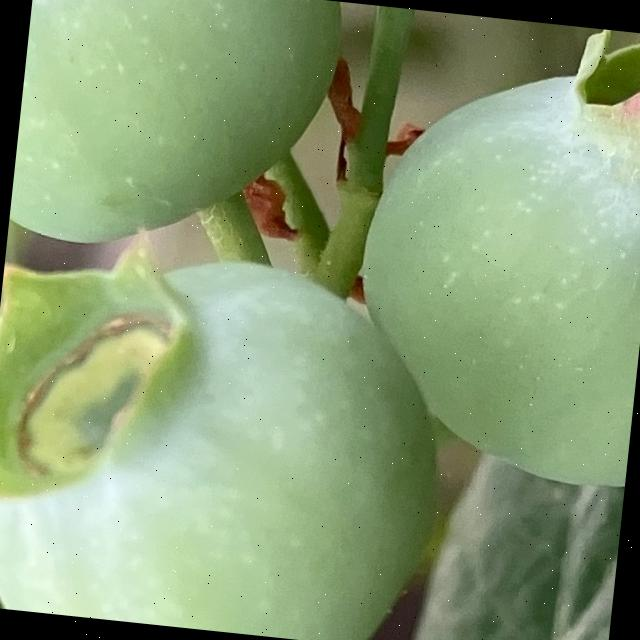Blueberries: (0, 223, 460, 640), (334, 24, 640, 494), (6, 0, 345, 271)
